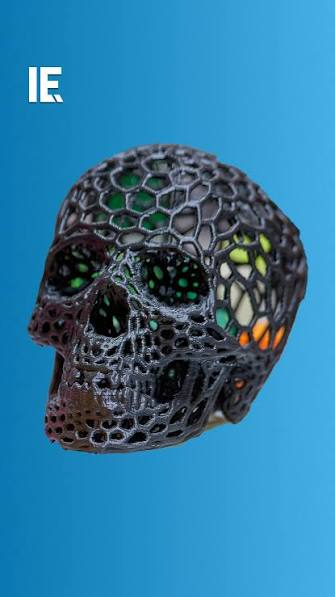3d print: (30, 145, 305, 451)
